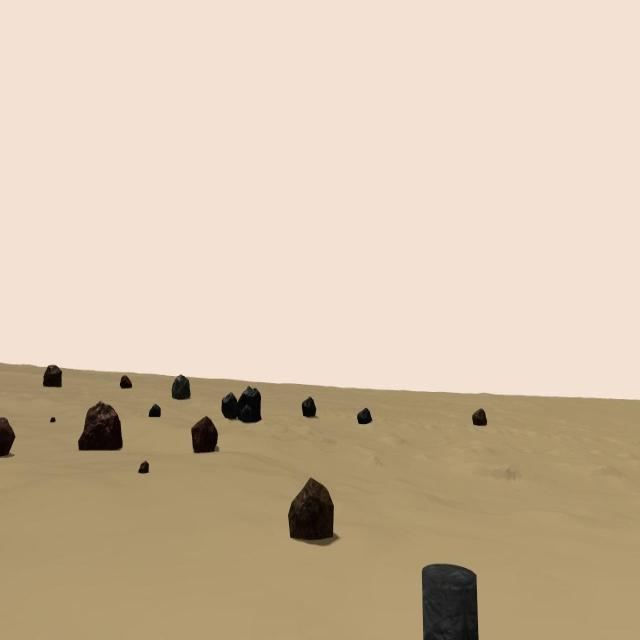rock: (288, 476, 334, 540), (78, 400, 122, 451), (192, 415, 218, 454), (238, 385, 262, 422), (0, 416, 15, 457), (172, 374, 191, 400), (43, 365, 62, 388), (222, 393, 238, 420), (302, 396, 316, 418), (148, 403, 161, 417), (120, 375, 132, 389), (138, 461, 149, 474), (49, 416, 55, 424)
